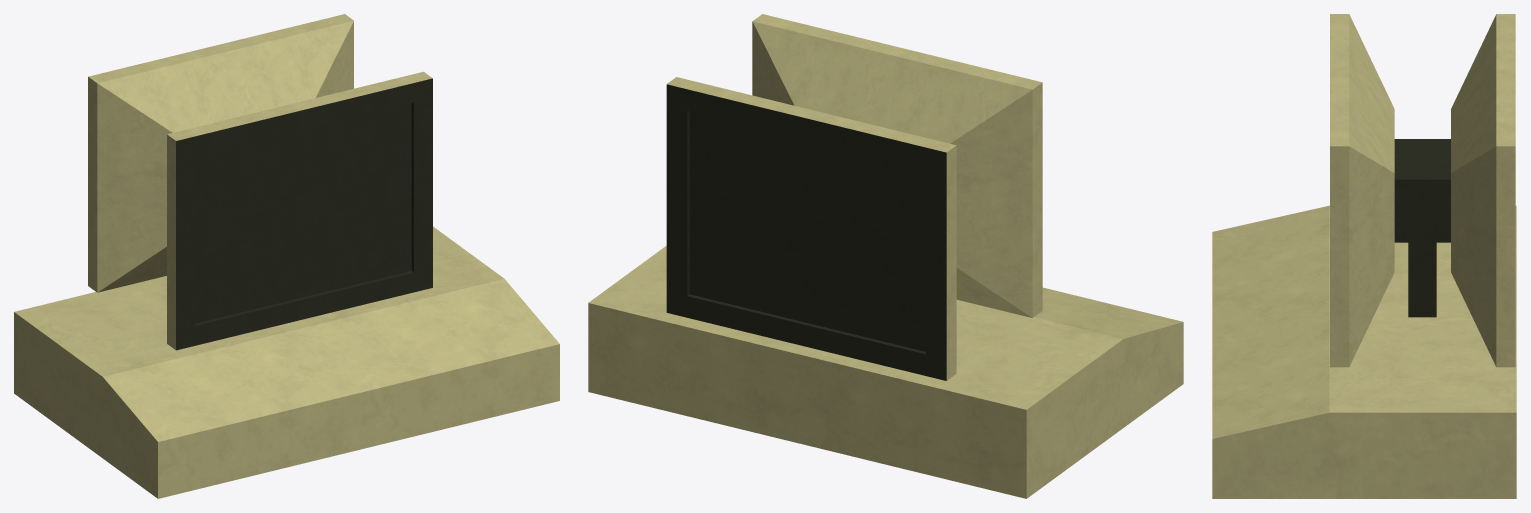
Rendered from LGSeochoB1ConvenienceStorePaymentSystem.fbx.
3 views of the same model, side by side, from view 1: azimuth 30°, elevation 25°; view 2: azimuth 150°, elevation 25°; view 3: azimuth 270°, elevation 25° (orthographic). The views are drawn at different scales.
Visible parts, largest first — view 1: LGSeochoB1ConvenienceStorePlastic; view 2: LGSeochoB1ConvenienceStorePlastic; view 3: LGSeochoB1ConvenienceStorePlastic.
Boxes of the visible parts, <box> form: LGSeochoB1ConvenienceStorePlastic: <box>14,14,559,498</box>; LGSeochoB1ConvenienceStorePlastic: <box>588,14,1183,498</box>; LGSeochoB1ConvenienceStorePlastic: <box>1212,14,1516,498</box>.
Size of the model in its own units: 78.43 by 55.8 by 48.7.
Materials: 1 (1 with a texture image).
